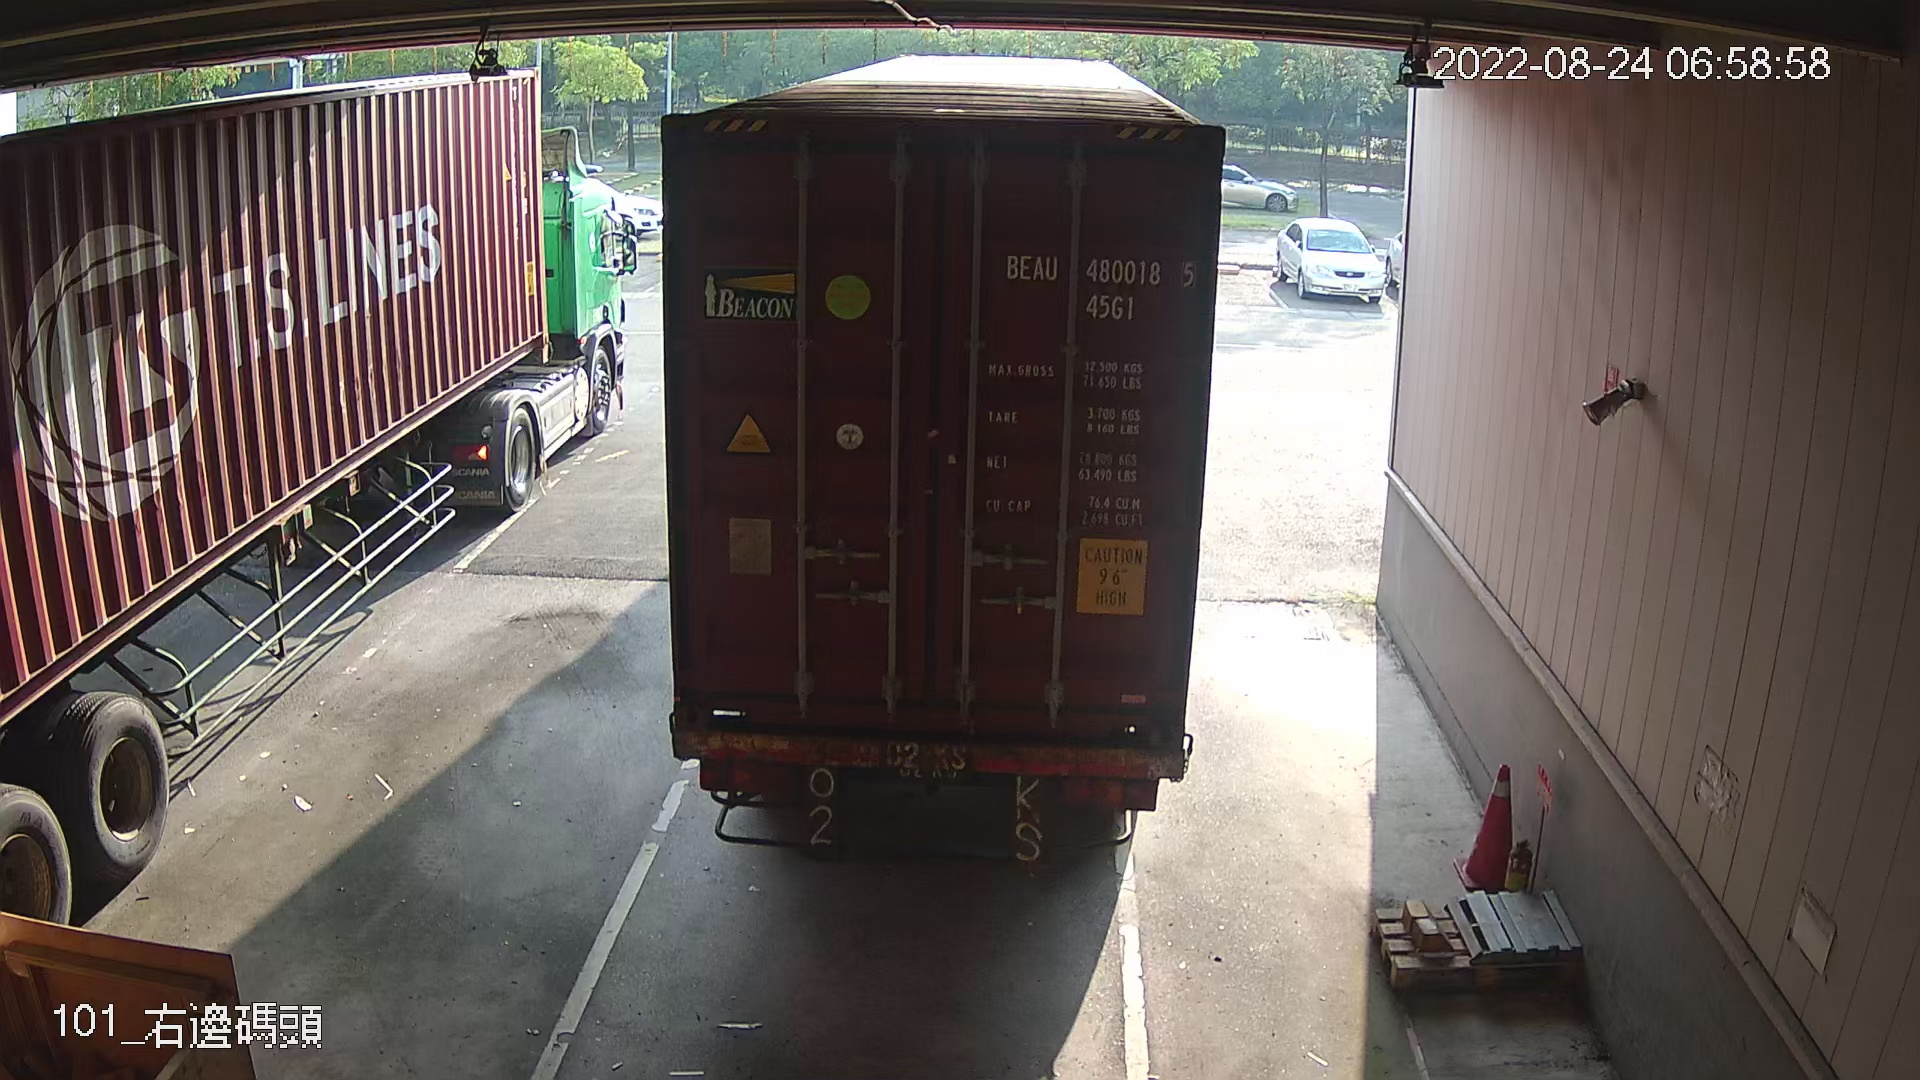container: (997, 243, 1203, 328)
